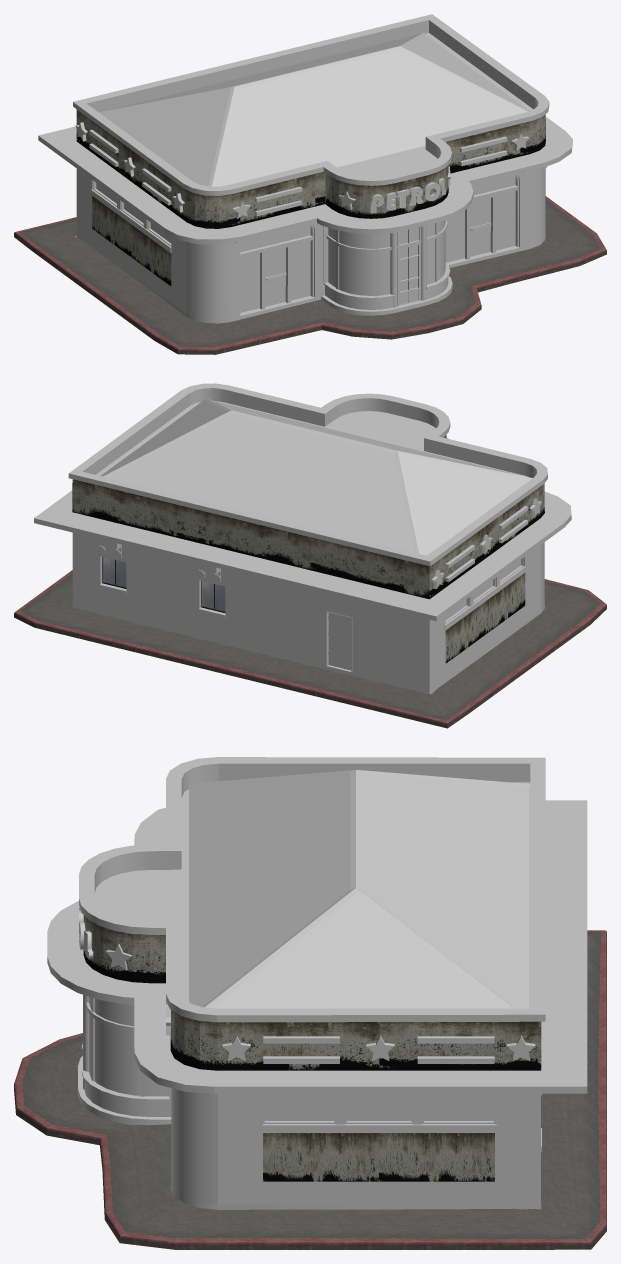
Rendered from vintageStaion.fbx.
The picture shows the model from 3 angles, top to bottom: view 1: azimuth 30°, elevation 25°; view 2: azimuth 150°, elevation 25°; view 3: azimuth 270°, elevation 25°; orthographic projection. The views are drawn at different scales.
Parts seen in each view (by area): view 1: RooftilesCeramicOld, sideWalk, leakingTopDecal, facade, vintageStation.015, entrance, entrance.001, vintageStation, vintageStationSideroof.004, vintageStationSideroof.001, leakingWindowsDecal.001, vintageStationSideroof.005 (+21 smaller); view 2: RooftilesCeramicOld, sideWalk, vintageStation.016, leakingTopDecal, vintageStationSideroof.002, vintageStation.017, vintageStation.015, flatRoof, vintageStationSideroof.004, leakingWindowsDecal.001, vintageStation.021, vintageStation.008 (+16 smaller); view 3: RooftilesCeramicOld, sideWalk, leakingTopDecal, vintageStationSideroof.002, leakingWindowsDecal.002, vintageStation.010, vintageStationSideroof.003, gasWindow.001, vintageStation.012, flatRoof, vintageStation.011, facade (+14 smaller).
Part boxes in pixels (x1=…): RooftilesCeramicOld: x1=98, y1=32, x2=528, y2=186; sideWalk: x1=14, y1=196, x2=606, y2=354; leakingTopDecal: x1=76, y1=109, x2=545, y2=228; facade: x1=323, y1=220, x2=450, y2=305; vintageStation.015: x1=73, y1=14, x2=431, y2=111; entrance: x1=240, y1=224, x2=313, y2=312; entrance.001: x1=445, y1=174, x2=518, y2=262; vintageStation: x1=187, y1=223, x2=323, y2=308; vintageStationSideroof.004: x1=38, y1=135, x2=184, y2=232; vintageStationSideroof.001: x1=309, y1=173, x2=473, y2=233; leakingWindowsDecal.001: x1=92, y1=196, x2=171, y2=286; vintageStationSideroof.005: x1=165, y1=208, x2=316, y2=244; RooftilesCeramicOld: x1=101, y1=398, x2=532, y2=555; sideWalk: x1=14, y1=570, x2=606, y2=728; vintageStation.016: x1=72, y1=532, x2=429, y2=679; leakingTopDecal: x1=72, y1=435, x2=544, y2=599; vintageStationSideroof.002: x1=34, y1=512, x2=436, y2=621; vintageStation.017: x1=72, y1=593, x2=429, y2=691; vintageStation.015: x1=68, y1=471, x2=430, y2=566; flatRoof: x1=96, y1=401, x2=527, y2=476; vintageStationSideroof.004: x1=428, y1=519, x2=564, y2=620; leakingWindowsDecal.001: x1=445, y1=572, x2=525, y2=663; vintageStation.021: x1=181, y1=383, x2=324, y2=426; vintageStation.008: x1=321, y1=393, x2=450, y2=437; RooftilesCeramicOld: x1=188, y1=769, x2=530, y2=1008; sideWalk: x1=14, y1=930, x2=606, y2=1249; leakingTopDecal: x1=83, y1=915, x2=541, y2=1070; vintageStationSideroof.002: x1=541, y1=800, x2=587, y2=1086; leakingWindowsDecal.002: x1=263, y1=1133, x2=494, y2=1181; vintageStation.010: x1=218, y1=1093, x2=540, y2=1187; vintageStationSideroof.003: x1=214, y1=1069, x2=587, y2=1093; gasWindow.001: x1=263, y1=1093, x2=494, y2=1123; vintageStation.012: x1=217, y1=757, x2=544, y2=782; flatRoof: x1=94, y1=782, x2=530, y2=1008; vintageStation.011: x1=218, y1=1188, x2=540, y2=1204; facade: x1=81, y1=996, x2=171, y2=1101.
Size of the model in its own units: 1602 by 632 by 1283.
